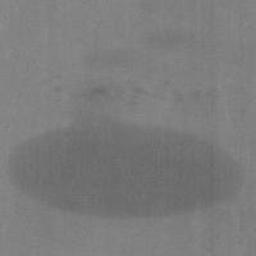Oil spot: (6, 26, 246, 224)
